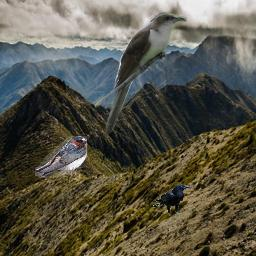Crow: (150, 184, 190, 216)
Cuckoo: (101, 11, 187, 140)
Swallow: (35, 136, 87, 178)
